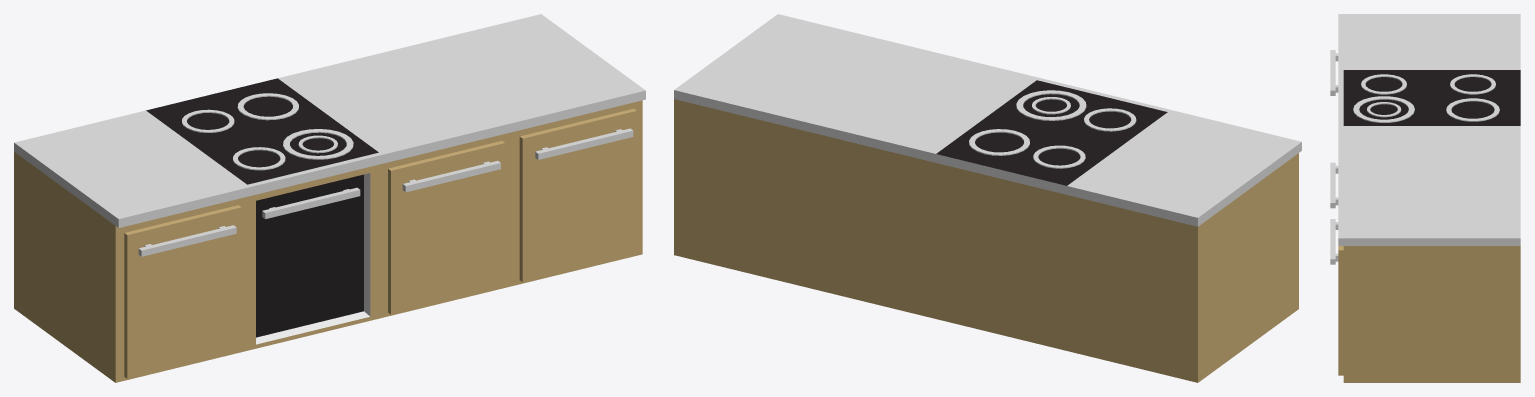
Rendered from Kitchen table 2.fbx.
3 renders of one model, left to right at view 1: azimuth 30°, elevation 25°; view 2: azimuth 150°, elevation 25°; view 3: azimuth 270°, elevation 25°, orthographic. The views are drawn at different scales.
Visible parts, largest first — view 1: Cube; view 2: Cube; view 3: Cube.
Boxes of the visible parts, x1,y1,x2,y2 form: Cube: (14, 14, 645, 382); Cube: (674, 14, 1301, 382); Cube: (1330, 14, 1520, 382).
Bounding box in the file's own units: 600 × 182 × 215.
